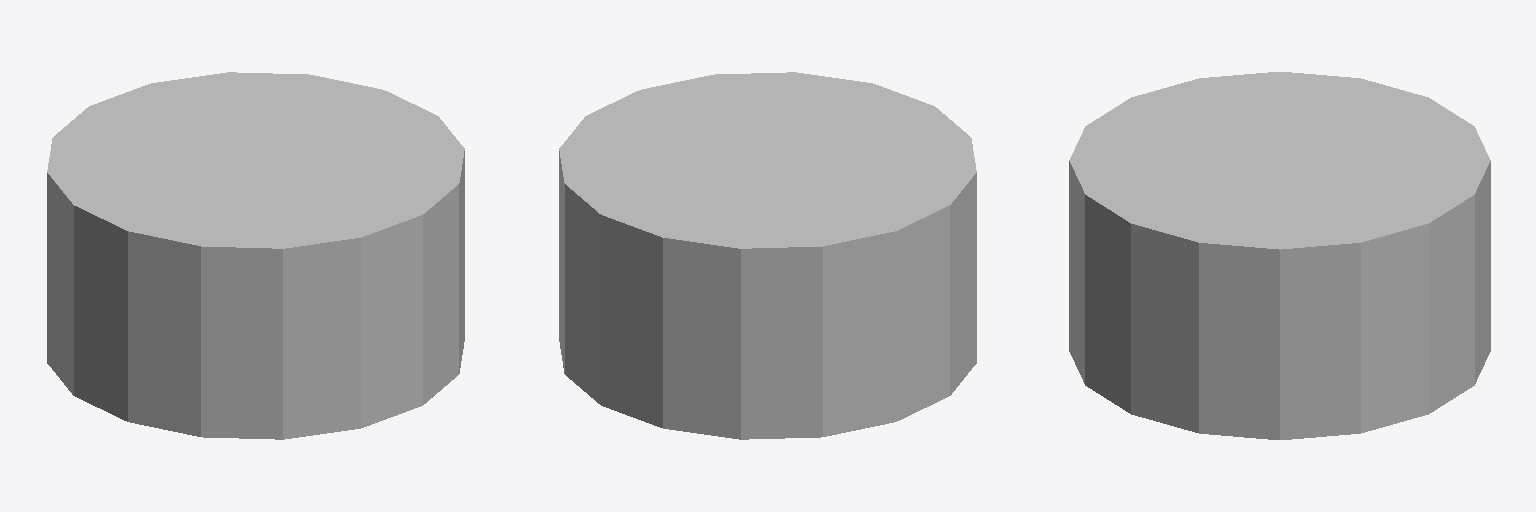
File: Drum.obj
The picture shows the model from 3 angles: view 1: azimuth 30°, elevation 25°; view 2: azimuth 150°, elevation 25°; view 3: azimuth 270°, elevation 25°; orthographic projection.
Parts seen in each view (by area): view 1: drum; view 2: drum; view 3: drum.
Part boxes in pixels (left/top/right/bottom): drum: left=47, top=72, right=464, bottom=439; drum: left=559, top=72, right=976, bottom=439; drum: left=1069, top=72, right=1490, bottom=439.
Size of the model in its own units: 2 by 1 by 2.